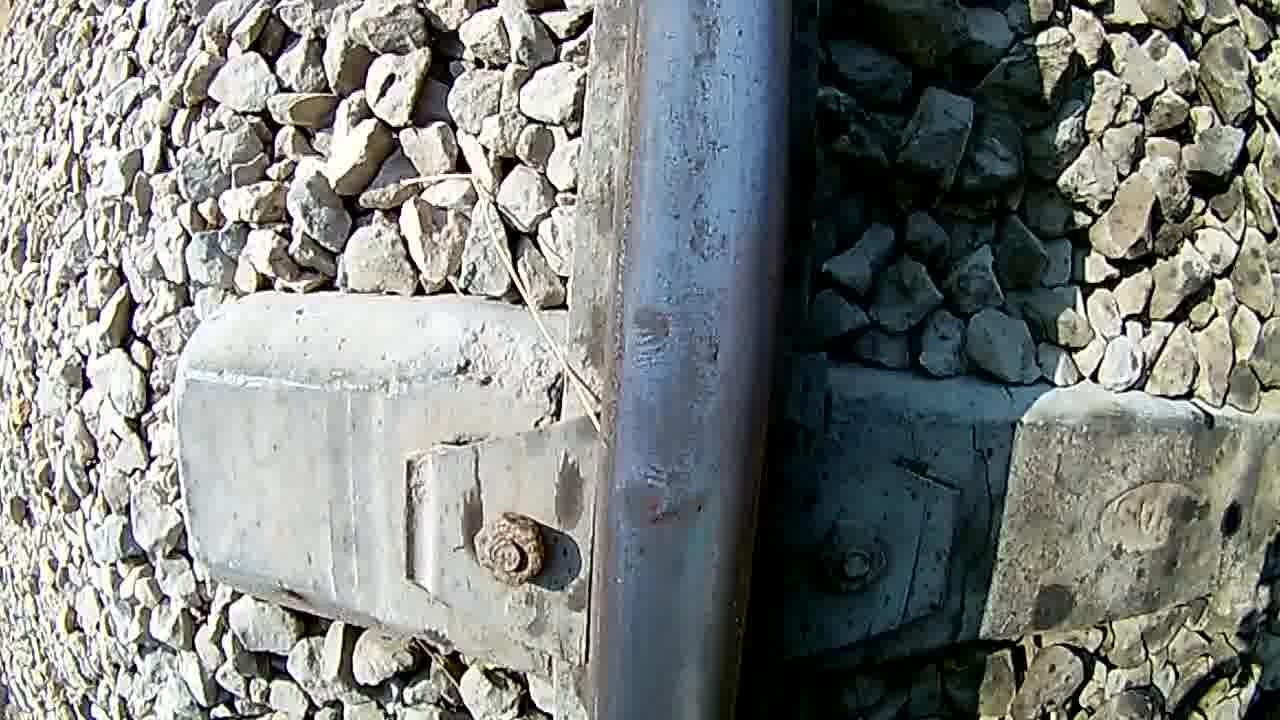crack: (587, 0, 783, 720)
